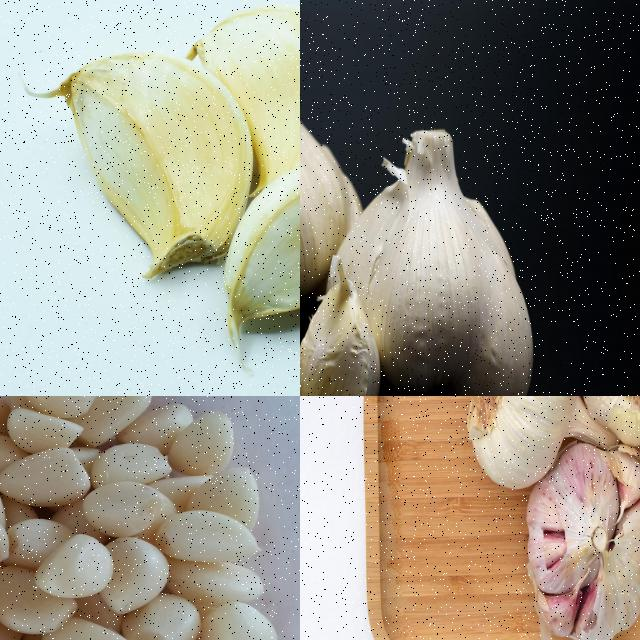garlic: (0, 396, 277, 639), (333, 126, 538, 395), (55, 52, 254, 288), (183, 3, 299, 215), (524, 443, 639, 639), (300, 76, 365, 315), (210, 152, 299, 325), (460, 396, 579, 494), (300, 275, 377, 395)
